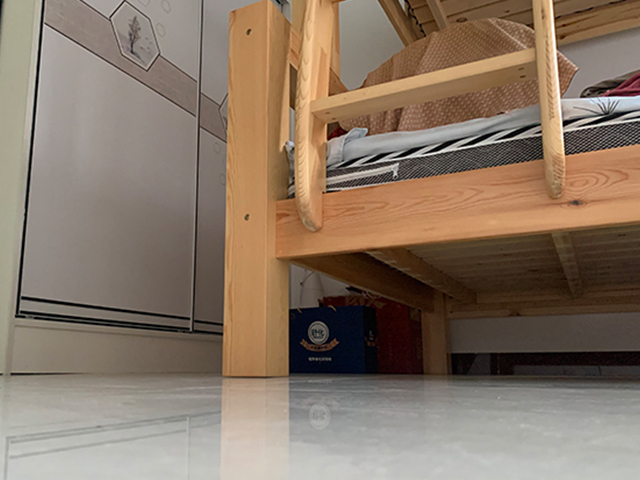bed: (221, 1, 640, 376)
cabinet: (1, 1, 227, 374)
